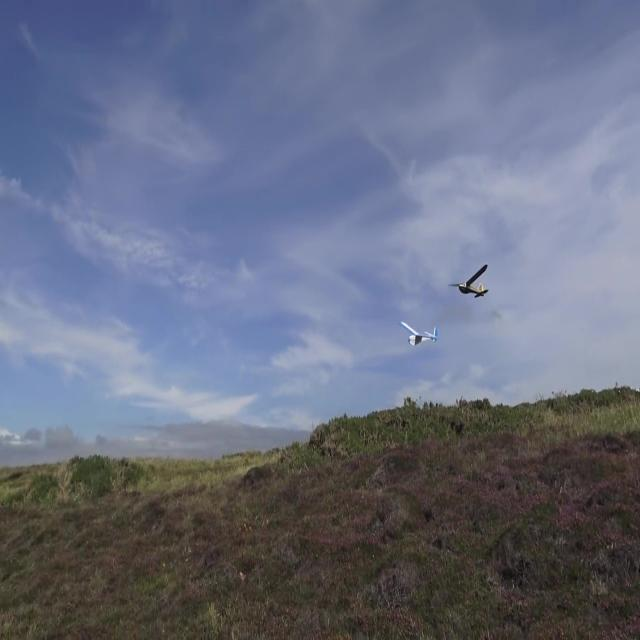iha: (447, 263, 488, 300), (397, 319, 440, 347)
